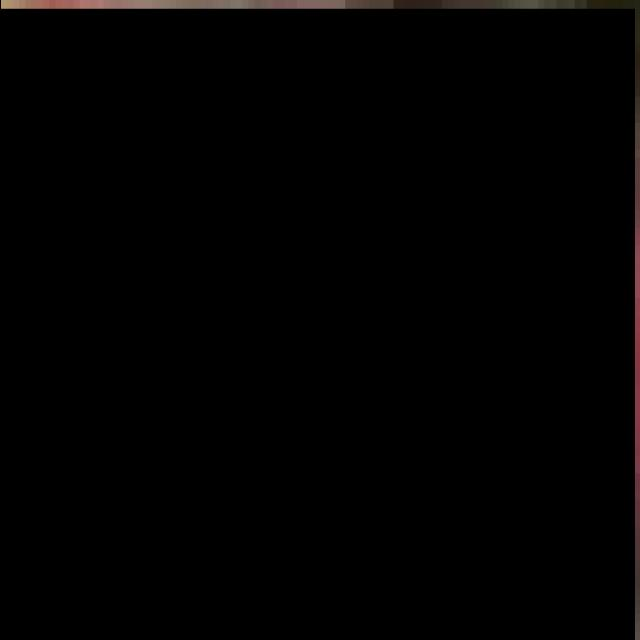fire: (0, 9, 634, 640)
